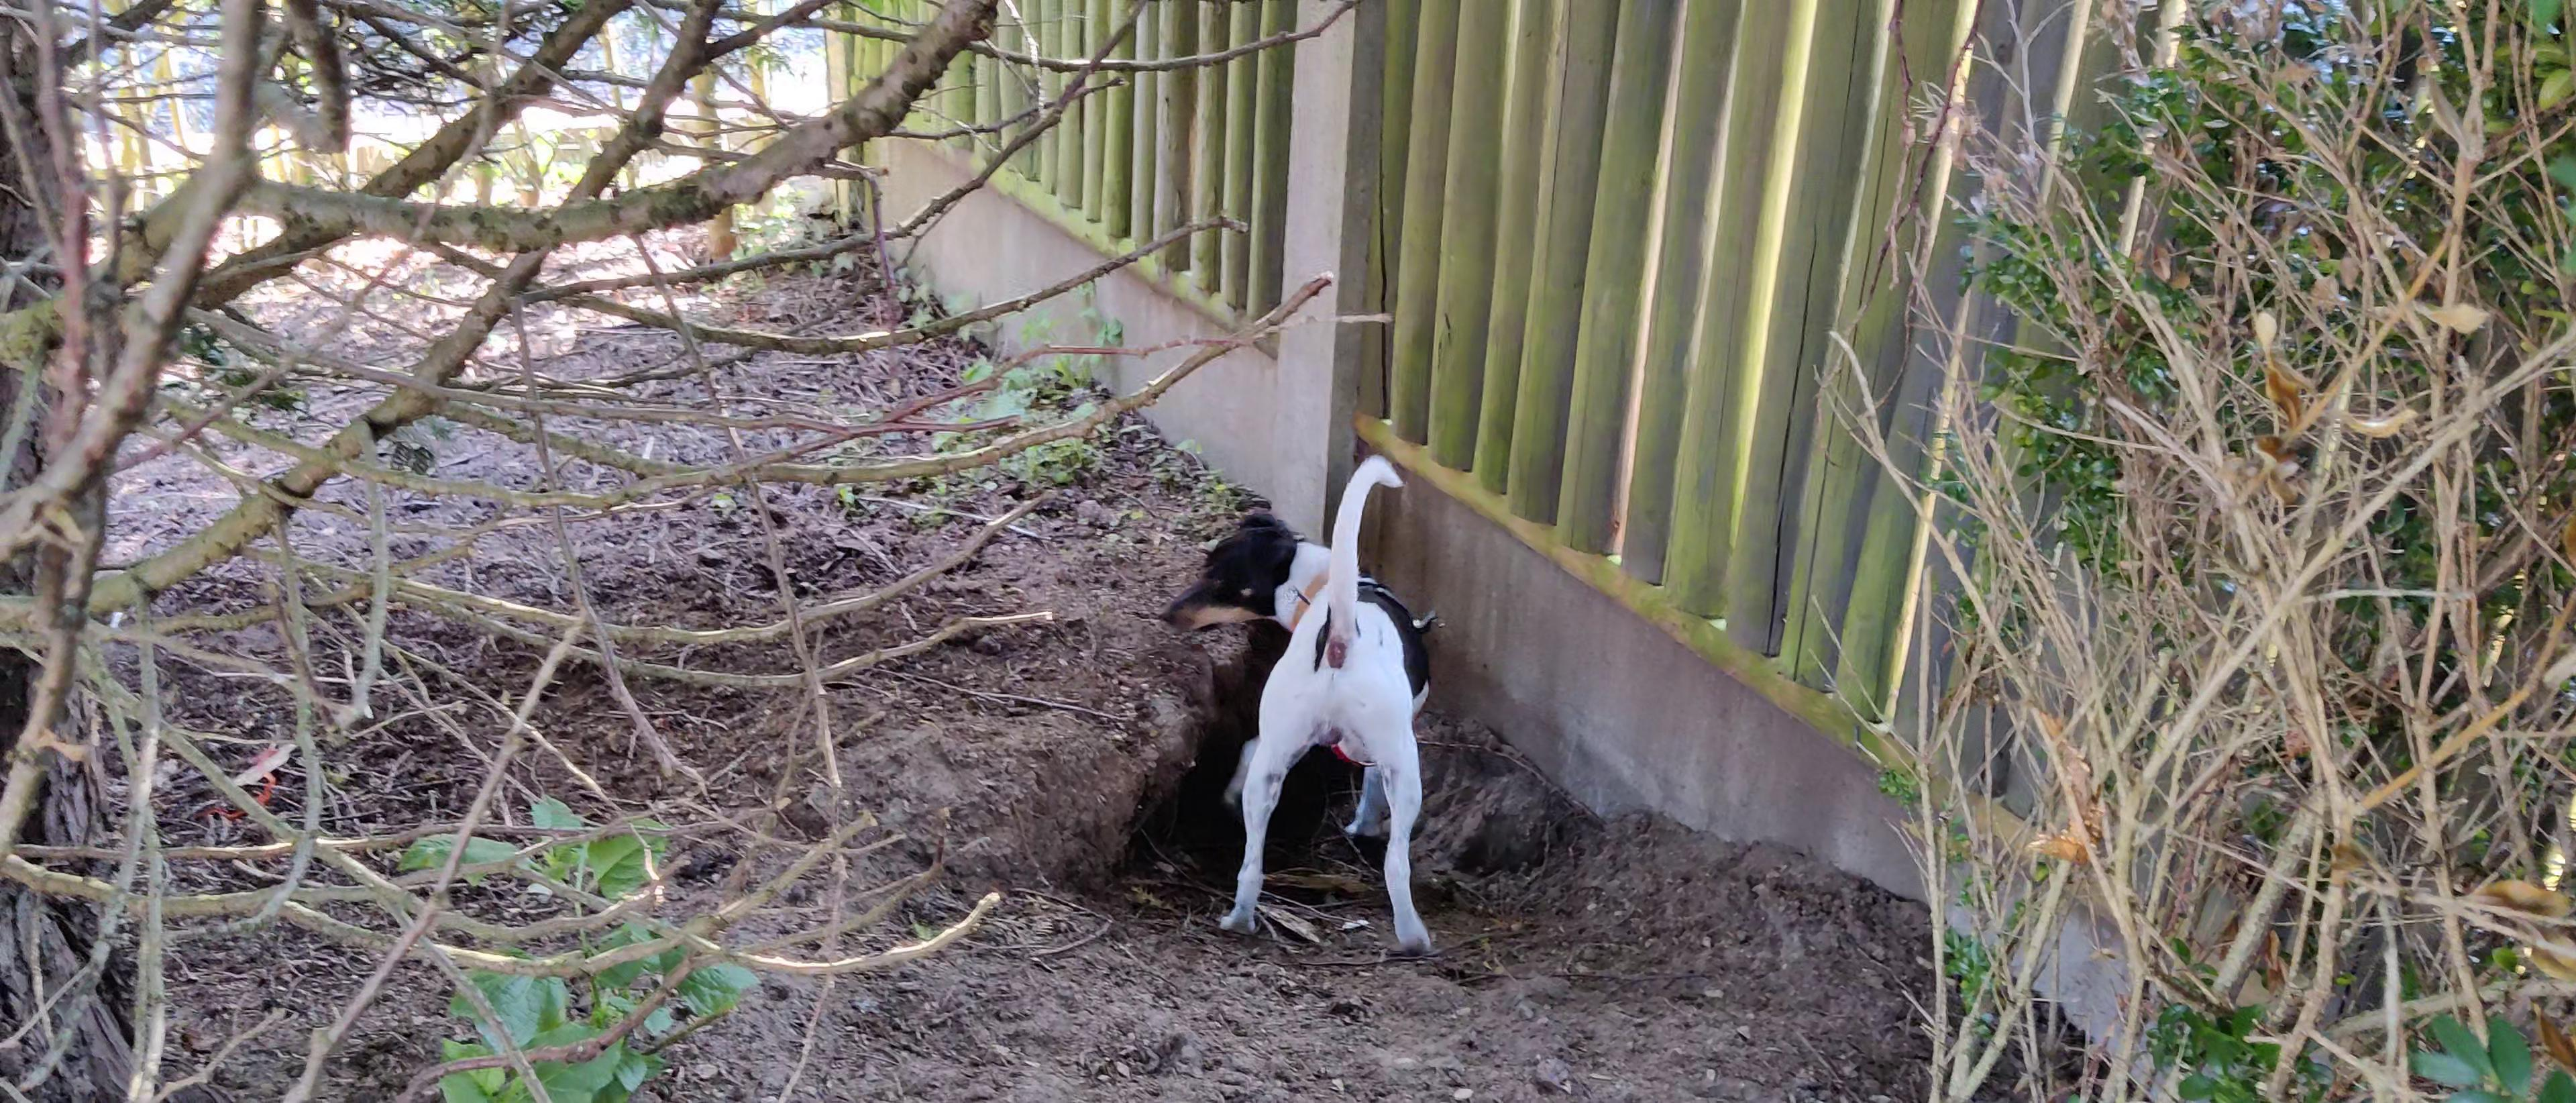Dog: (1135, 429, 1462, 975)
